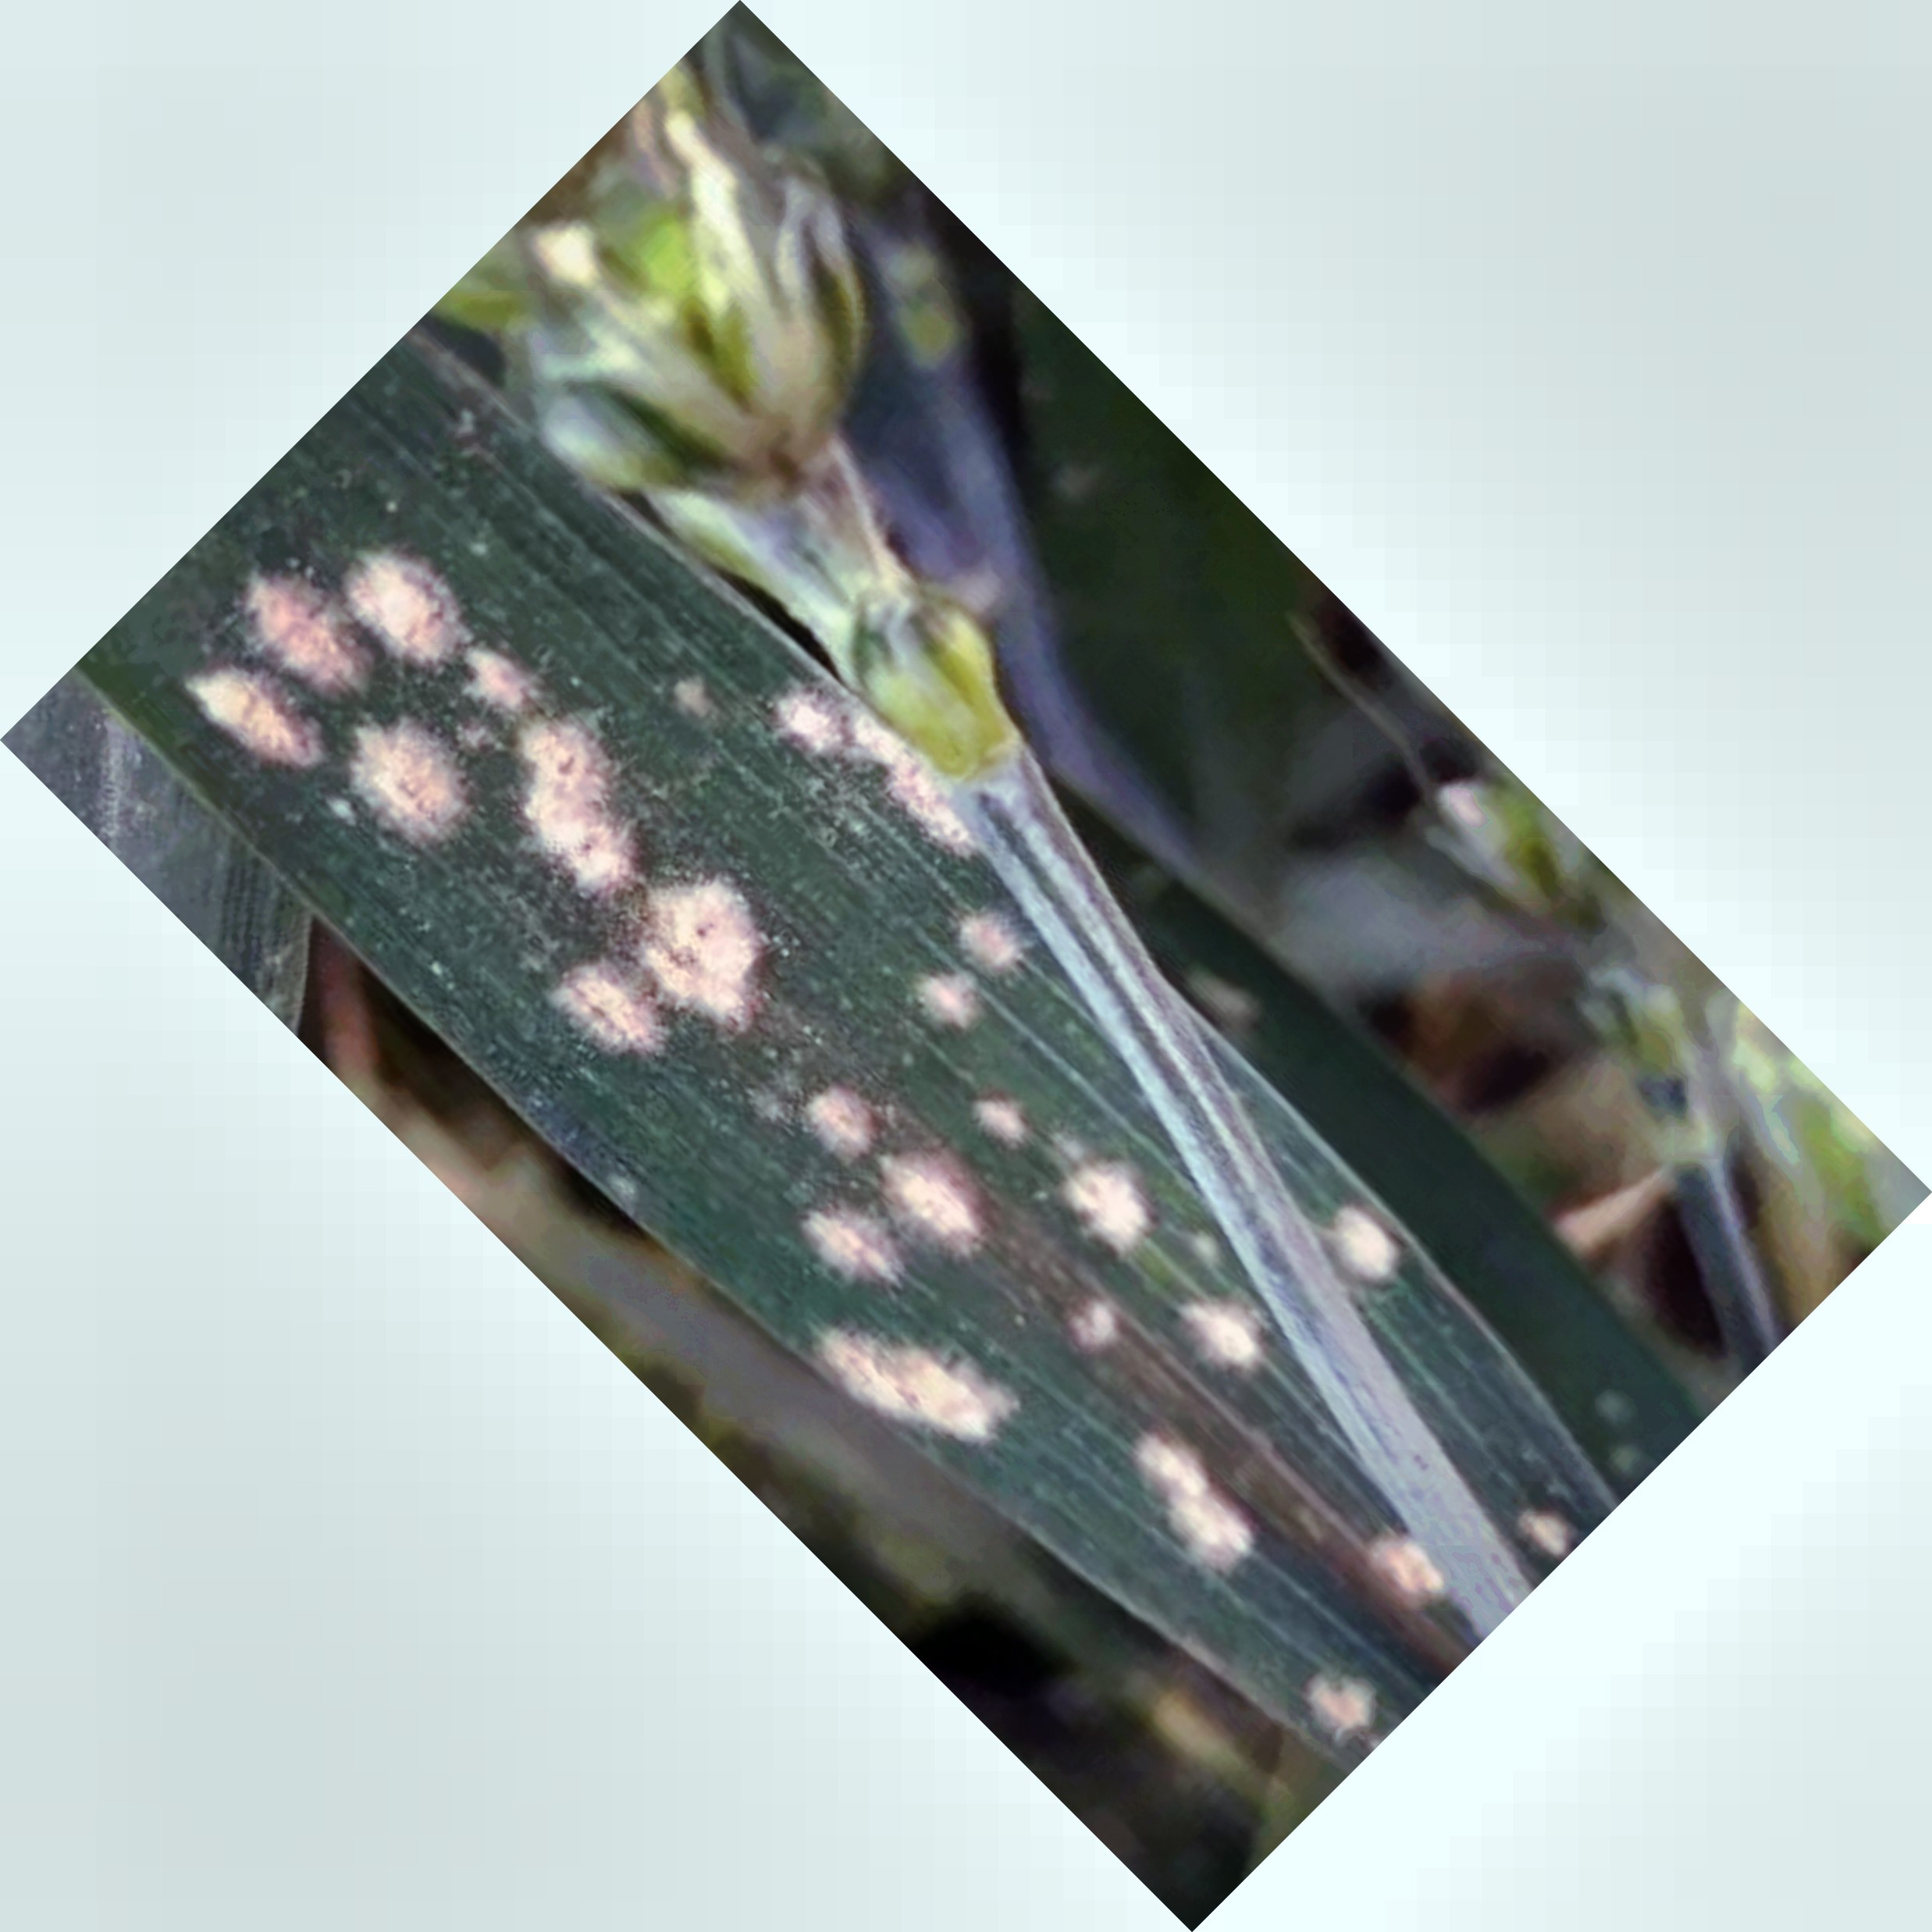Powdery Mildew: (218, 520, 1408, 1605)
